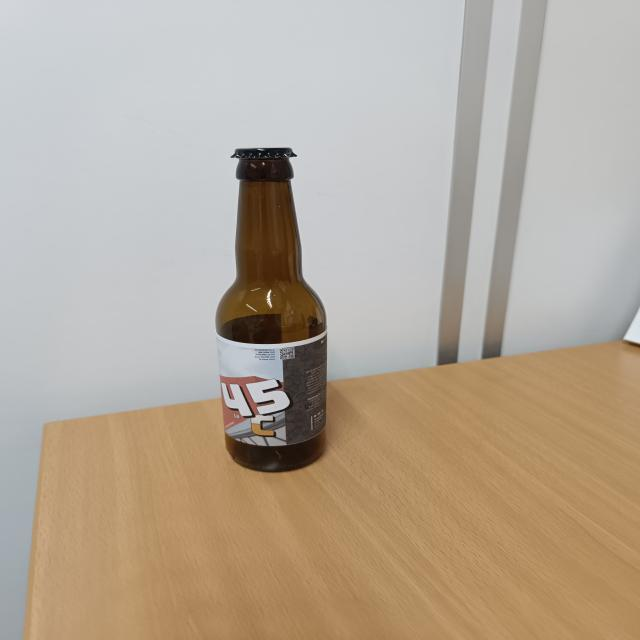Bottle: (215, 144, 328, 472)
Cap: (225, 146, 302, 161)
Label: (218, 337, 325, 445)
